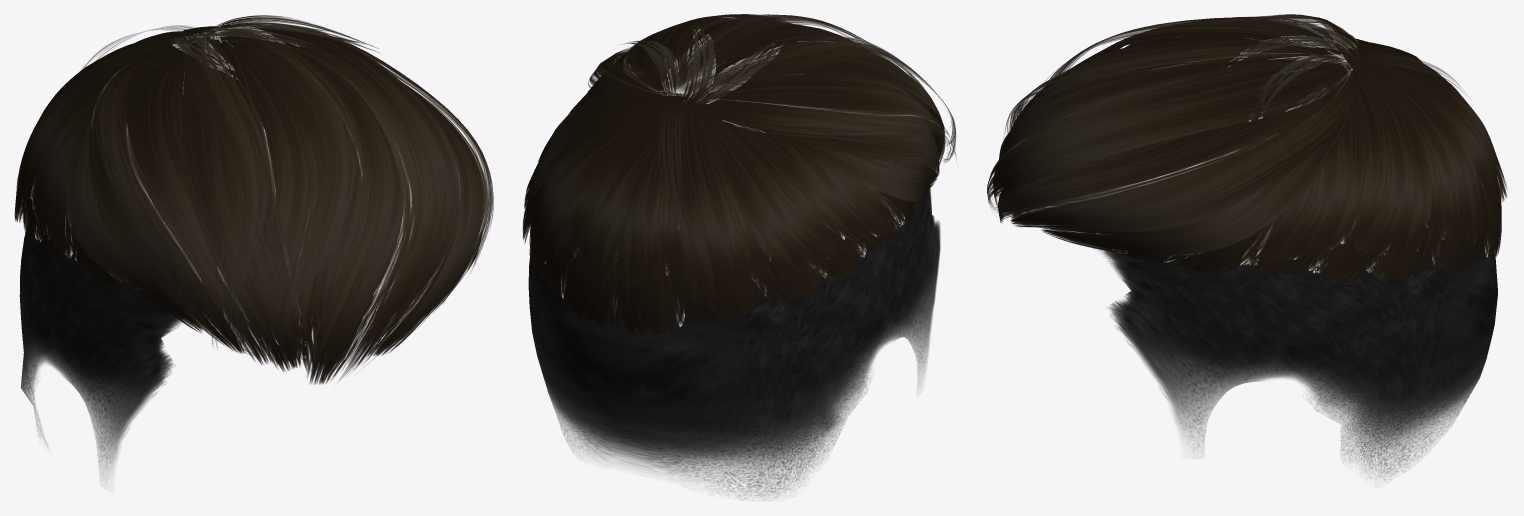
File: Straight_FrenchCrop.glb
3 views of the same model, side by side, from view 1: azimuth 30°, elevation 25°; view 2: azimuth 150°, elevation 25°; view 3: azimuth 270°, elevation 25° (orthographic). The views are drawn at different scales.
Parts seen in each view (by area): view 1: s4studio_mesh_2.002, face.002_Plane.003; view 2: s4studio_mesh_2.002, face.002_Plane.003; view 3: s4studio_mesh_2.002, face.002_Plane.003.
Part boxes in pixels (left/top/right/bottom): s4studio_mesh_2.002: left=14, top=15, right=493, bottom=384; face.002_Plane.003: left=19, top=226, right=182, bottom=480; s4studio_mesh_2.002: left=522, top=14, right=956, bottom=336; face.002_Plane.003: left=528, top=186, right=940, bottom=499; s4studio_mesh_2.002: left=987, top=14, right=1507, bottom=282; face.002_Plane.003: left=1081, top=54, right=1497, bottom=479.
Size of the model in its own units: 0.1862 by 0.2139 by 0.2434.
2 materials, 2 textured.
